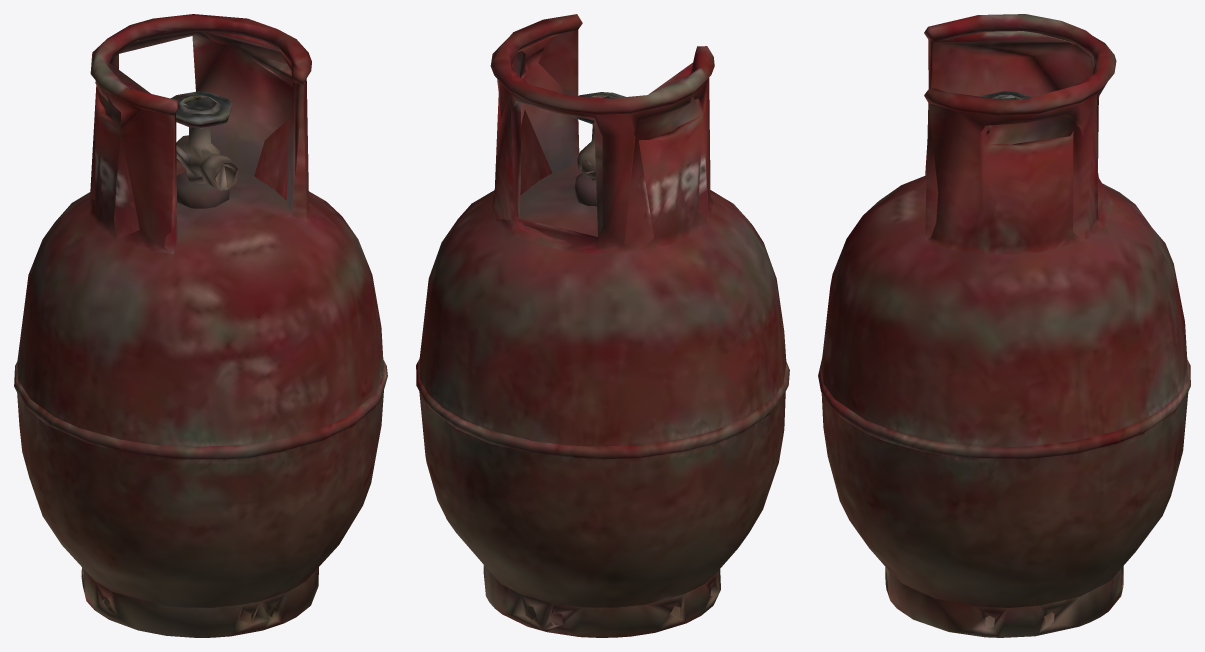
The model's file is small_lpg_tank.glb.
The picture shows the model from 3 angles, left to right: view 1: azimuth 30°, elevation 25°; view 2: azimuth 150°, elevation 25°; view 3: azimuth 270°, elevation 25°; orthographic projection.
Visible parts, largest first — view 1: small_lpg_tank, small_lpg_tank_lo; view 2: small_lpg_tank, small_lpg_tank_lo; view 3: small_lpg_tank, small_lpg_tank_lo.
Boxes of the visible parts, x1=… form: small_lpg_tank: x1=14, y1=14, x2=387, y2=637; small_lpg_tank_lo: x1=83, y1=27, x2=306, y2=630; small_lpg_tank: x1=416, y1=14, x2=789, y2=637; small_lpg_tank_lo: x1=493, y1=34, x2=713, y2=630; small_lpg_tank: x1=818, y1=14, x2=1190, y2=637; small_lpg_tank_lo: x1=886, y1=31, x2=1122, y2=628.
Bounding box in the file's own units: 0.4087 × 0.642 × 0.4083.
1 material, 1 textured.
